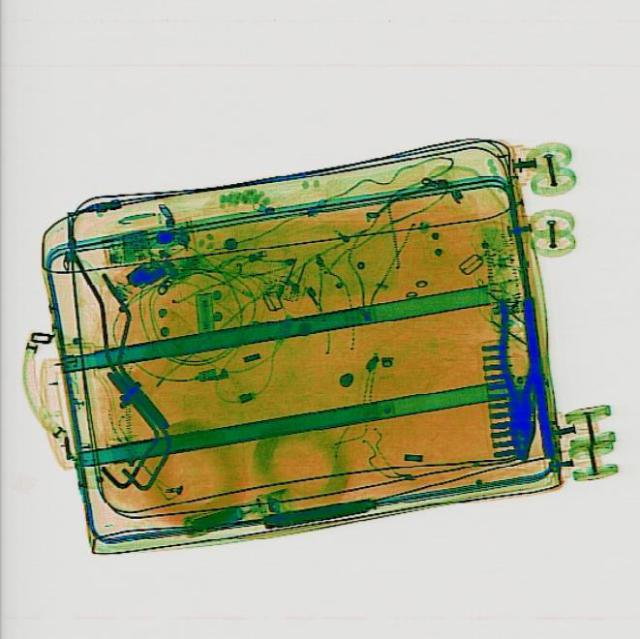Pliers: (493, 294, 545, 461)
